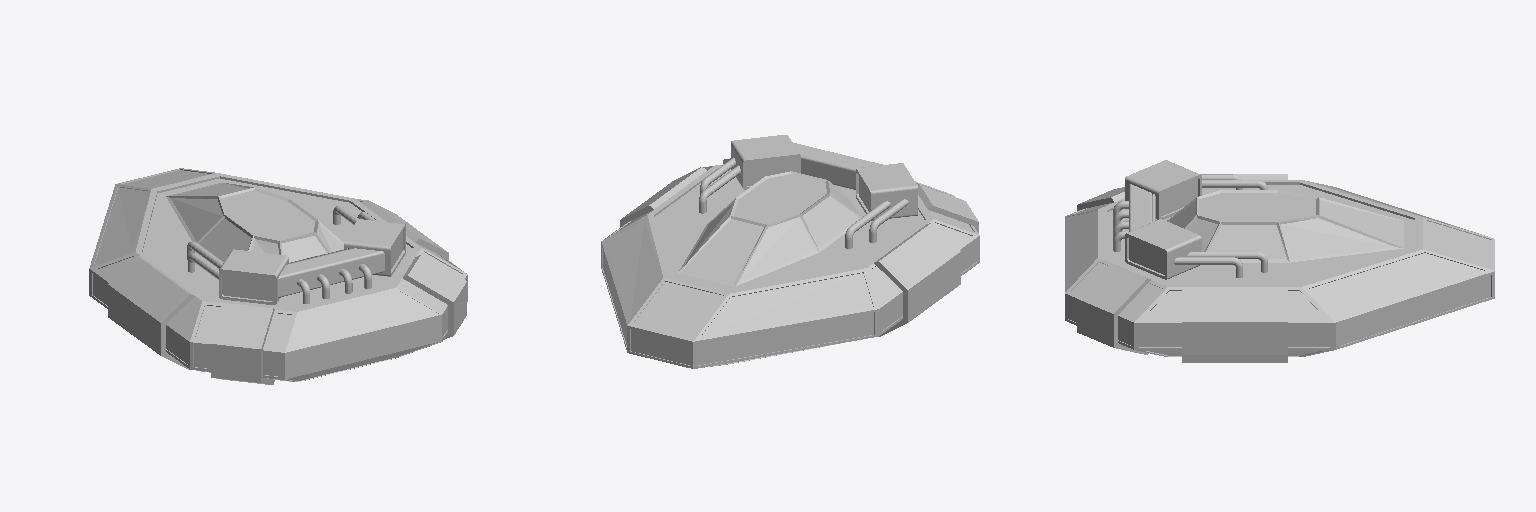
The model's file is ship.obj.
3 renders of one model, left to right at view 1: azimuth 30°, elevation 25°; view 2: azimuth 150°, elevation 25°; view 3: azimuth 270°, elevation 25°, orthographic.
Size of the model in its own units: 0.3065 by 0.1039 by 0.397.